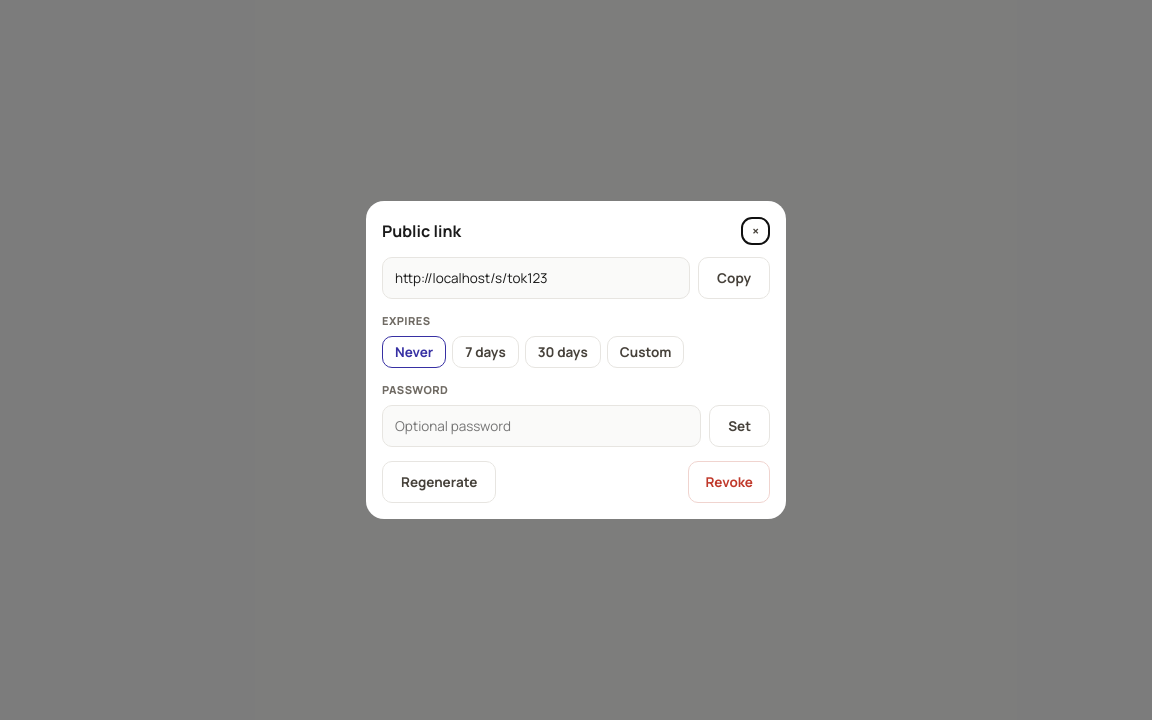
it: ShareLinkModal › keeps the typed password when Set fails
This screenshot has width=1152, height=720.
Type "secret123" into the password field labelled "Password" at point(542, 426), box x1=382 y1=405 x2=701 y2=447
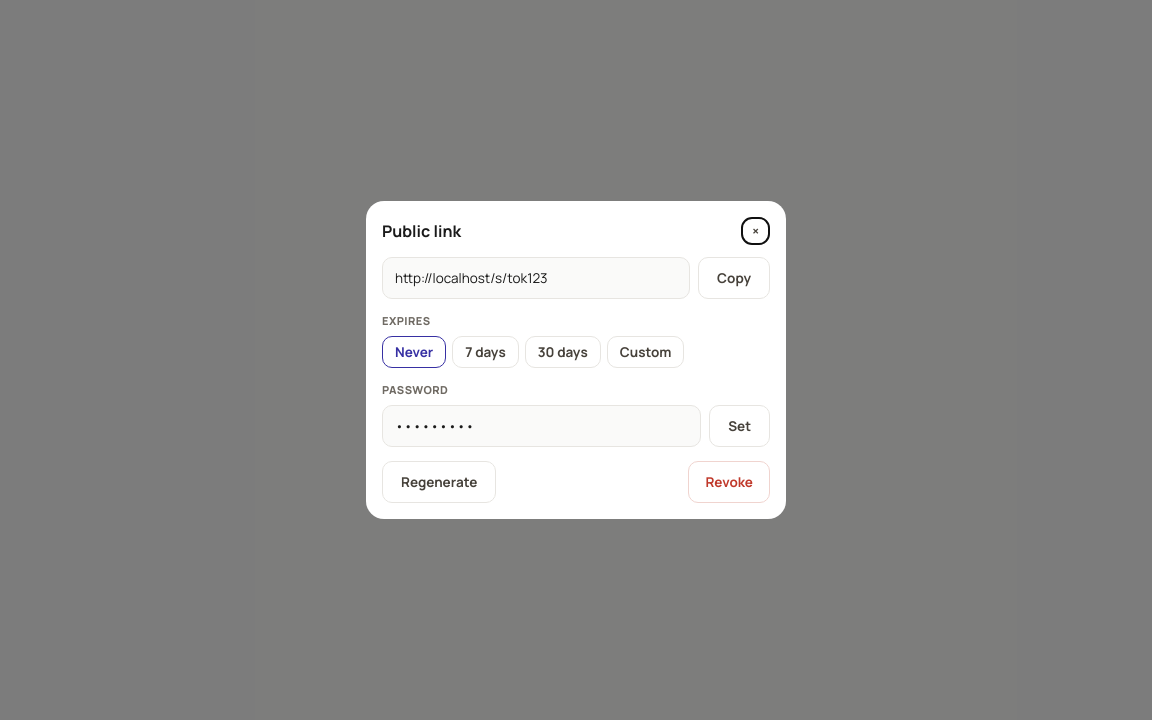
Click the button "Set" at point(740, 426), box x1=709 y1=405 x2=770 y2=447
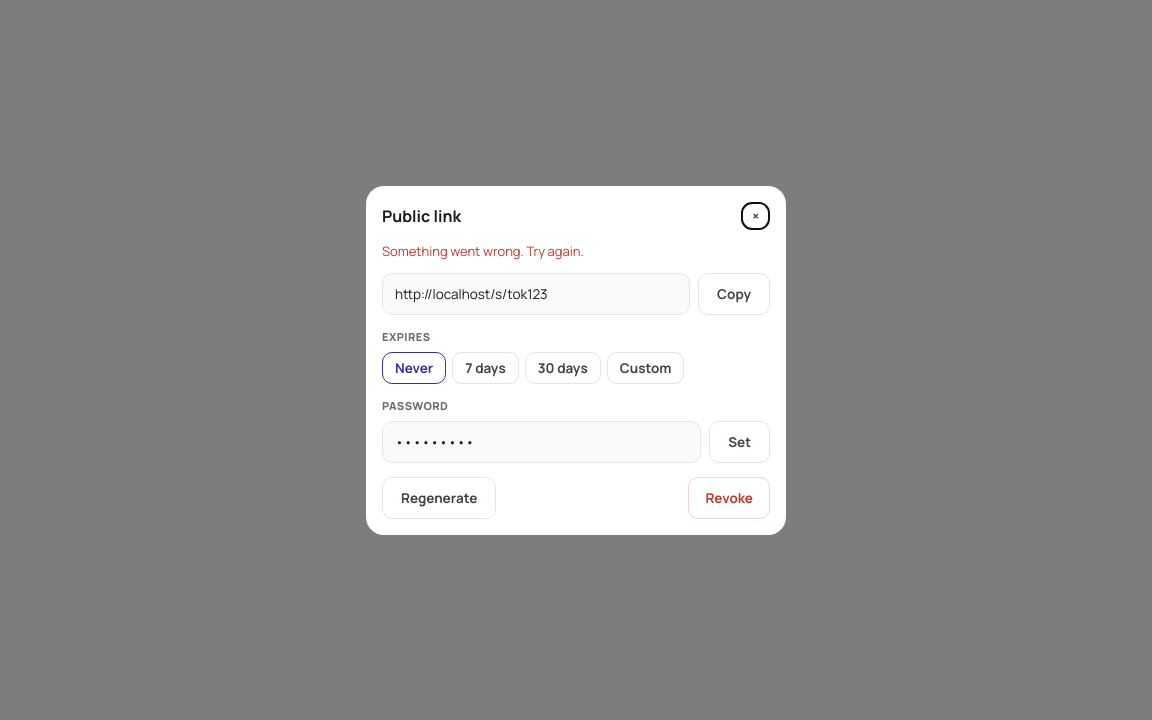
Expected: the message "Something went wrong. Try again." is shown, x1=382 y1=242 x2=584 y2=260
